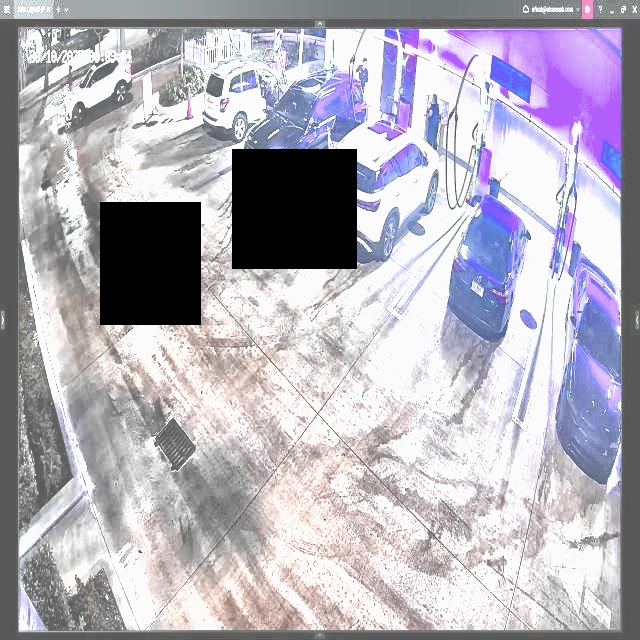Car: (321, 114, 438, 260), (244, 70, 370, 192), (449, 192, 529, 344), (201, 57, 296, 143)
